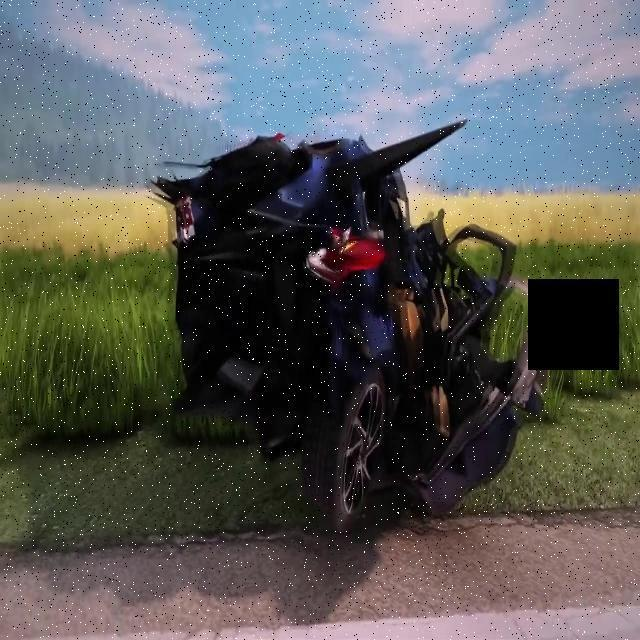person: (127, 122, 584, 546)
